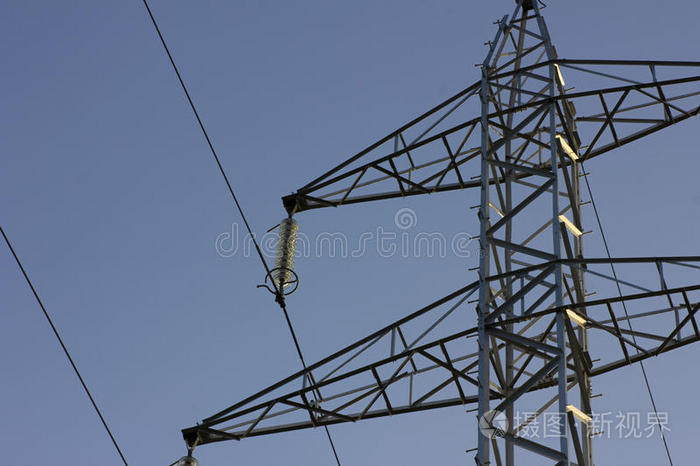insulator: (273, 216, 300, 287)
